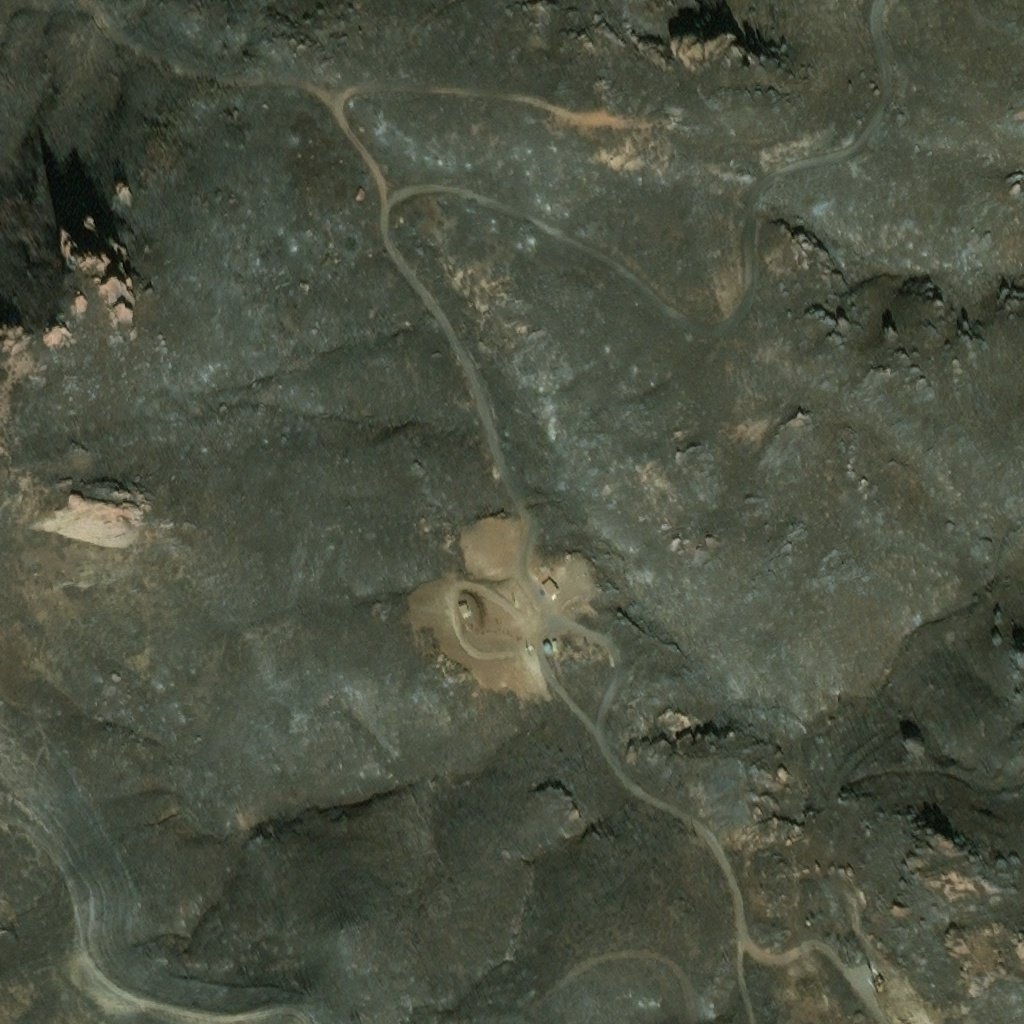0 no-damage: (540, 579, 560, 599), (457, 601, 471, 616), (541, 643, 552, 652)
4 un-classified: (870, 971, 884, 986)
